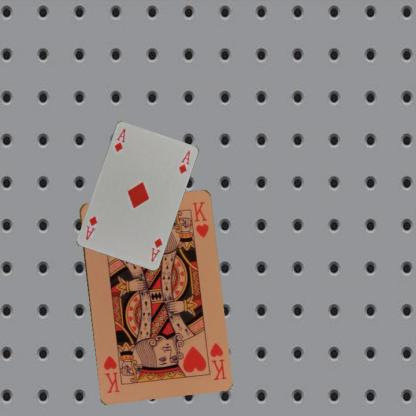Ad: (148, 235, 163, 263), (112, 125, 126, 153)
Kh: (207, 340, 227, 381)
